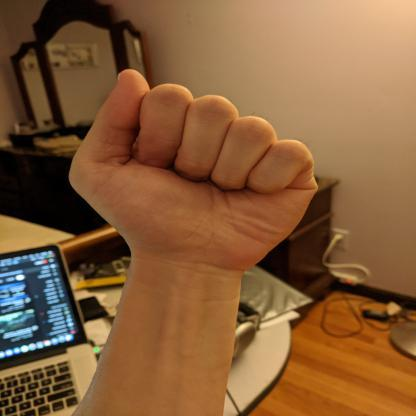A: (59, 64, 328, 282)
